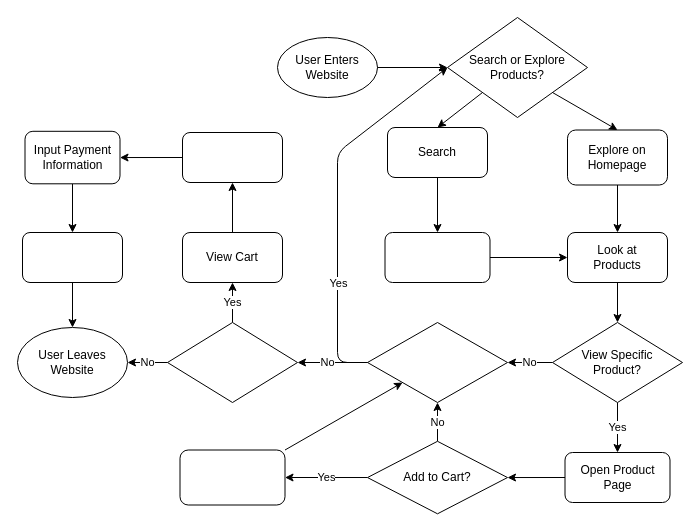
Some shapes in this 700 by 532 pixel diagram are drawn without their labels. Each missing label, with the centre of its shape:
Added to Cart Confirmation: (x=232, y=477)
Checkout?: (x=232, y=362)
Continue Shopping?: (x=437, y=362)
Input to Website: (x=437, y=257)
Order Confirmation and Email: (x=72, y=257)
View Payment: (x=232, y=157)
